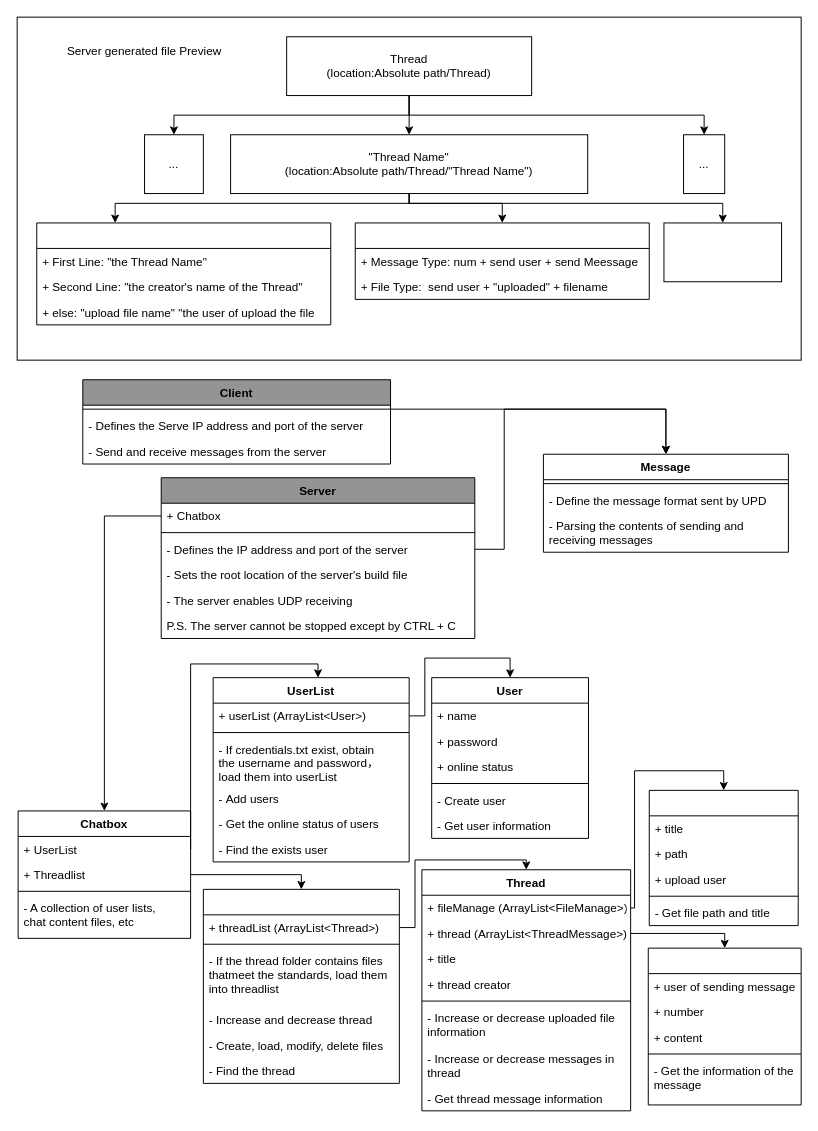
Some shapes in this 818 by 1131 pixel diagram are drawn without their labels. The shapes that lost their labels are listed below. From the top down, each one's box as (x1, y1, x2, y2) in pixels, then its label:
(354, 222, 649, 299): "Thread Name".txt
(663, 222, 782, 282): Upload file
(36, 222, 331, 325): information.txt
(648, 789, 798, 926): FileManage
(202, 888, 399, 1083): ThreadBox
(647, 947, 801, 1105): ThreadMessage
